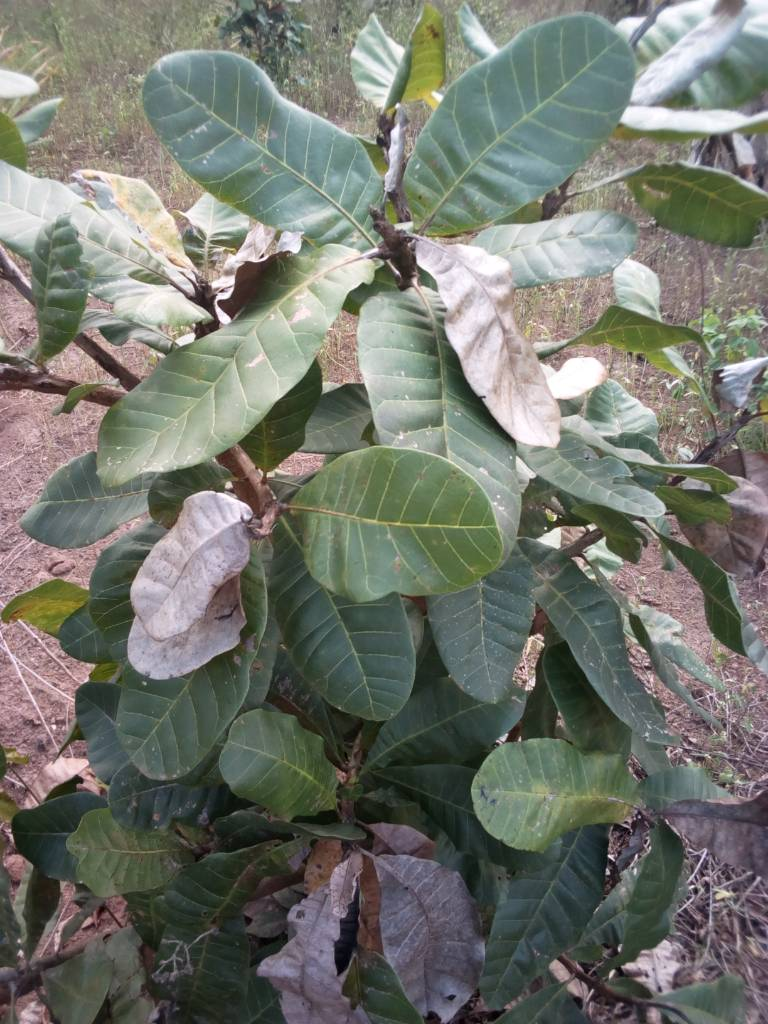Dessèchement des bourgeons: (192, 274, 219, 315)
